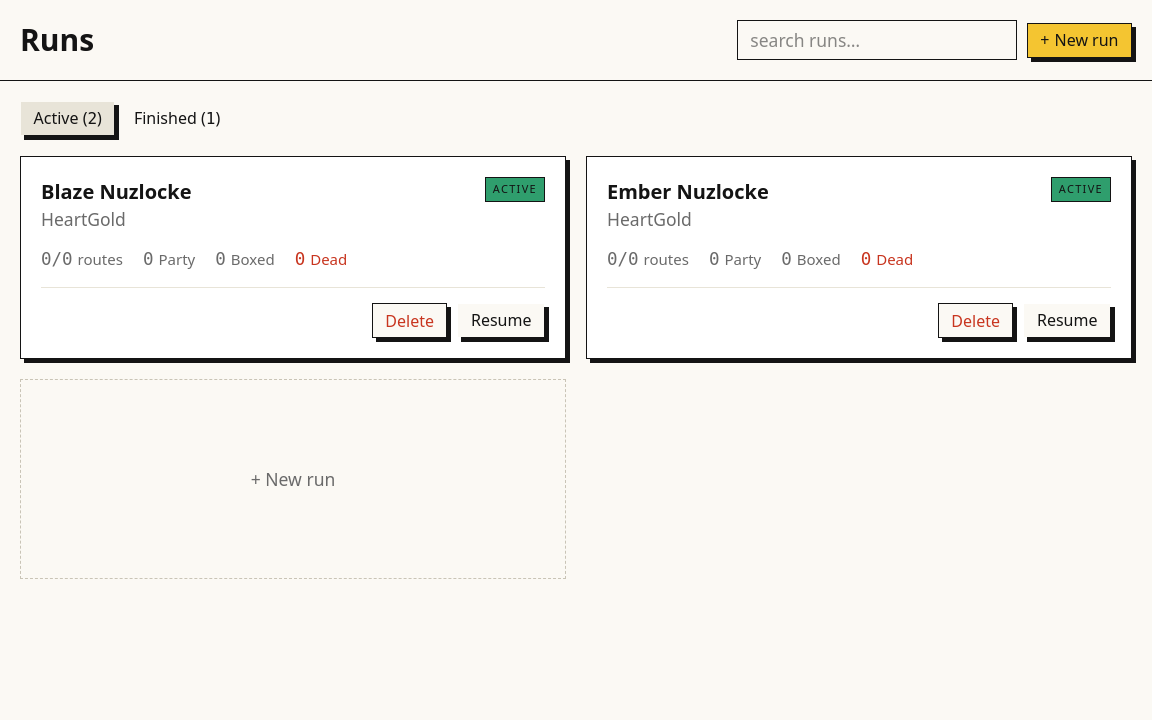
RunListScreen › shows a count on each tab, and filters within the selected tab by name (case-insensitive)
Expected: the tab "Active (2)" is shown, [20,101,115,136]
Expected: the tab "Finished (1)" is shown, [120,101,234,136]
In the search field labelled "search runs…": (877, 40) [737,20,1017,60], type "BLAZE"
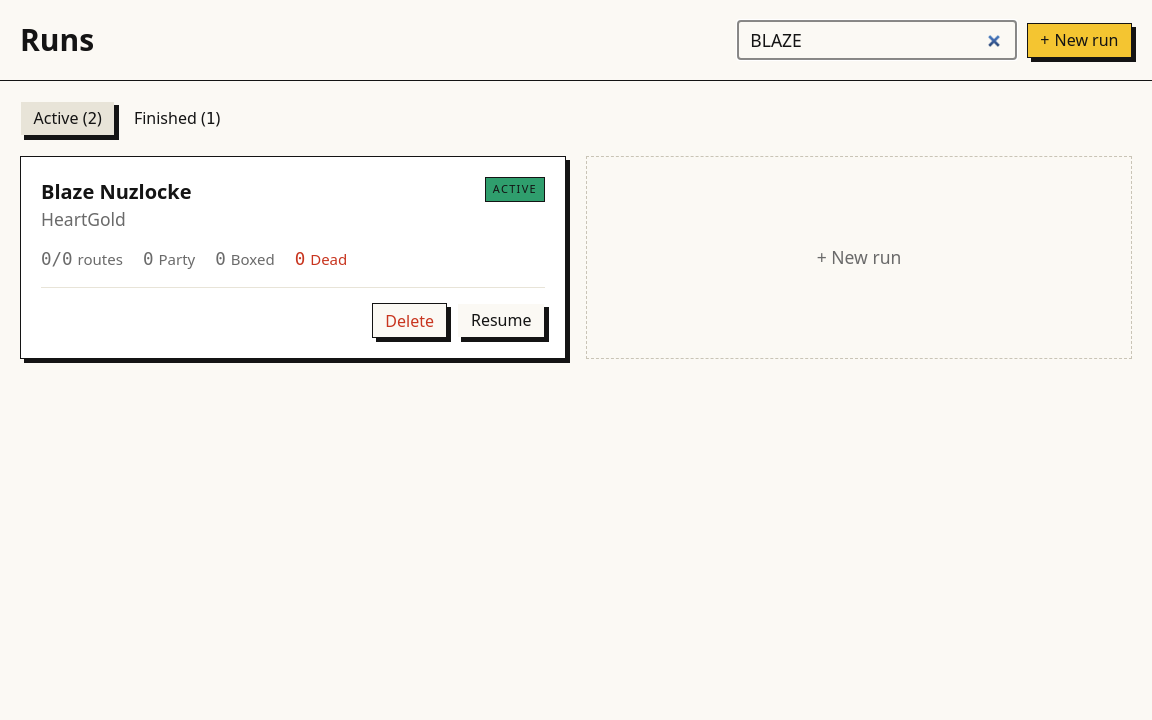
Expected: the heading "Blaze Nuzlocke" is shown, [41,177,192,207]
Expected: the heading "Ember Nuzlocke" is gone
